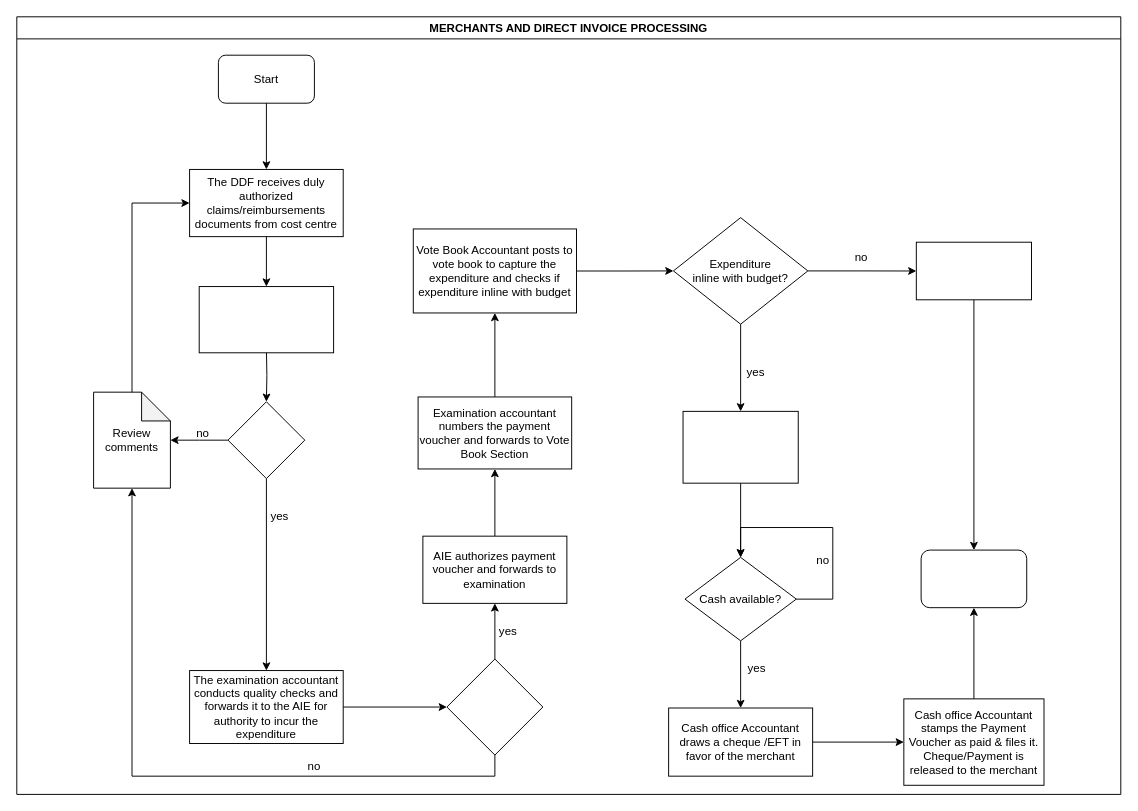
Image size: 1138x811. Some labels were removed from this diagram. The centre of each missing label's shape, as x and y in pixels:
DDF Authorizes payment subject to availability of cash: (740,446)
Document/ Bills valid?: (266,440)
End: (973,578)
Meets quality checks?: (494,706)
Payment Accountant generates a Payment Voucher and forwards to examination: (266,319)
PV is returned to the cost centre head: (973,270)
